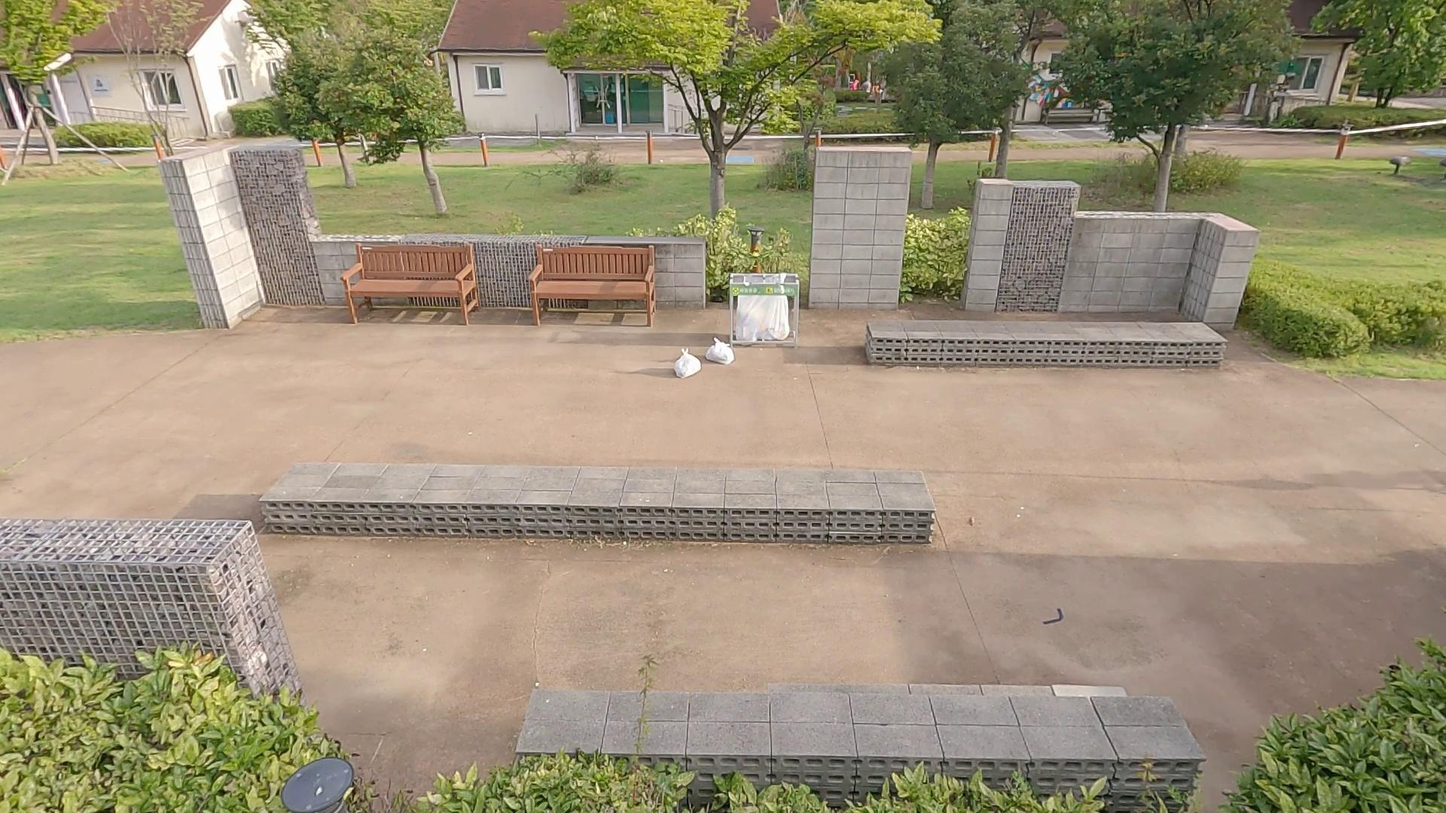trash: (673, 346, 703, 379), (701, 337, 731, 369)
